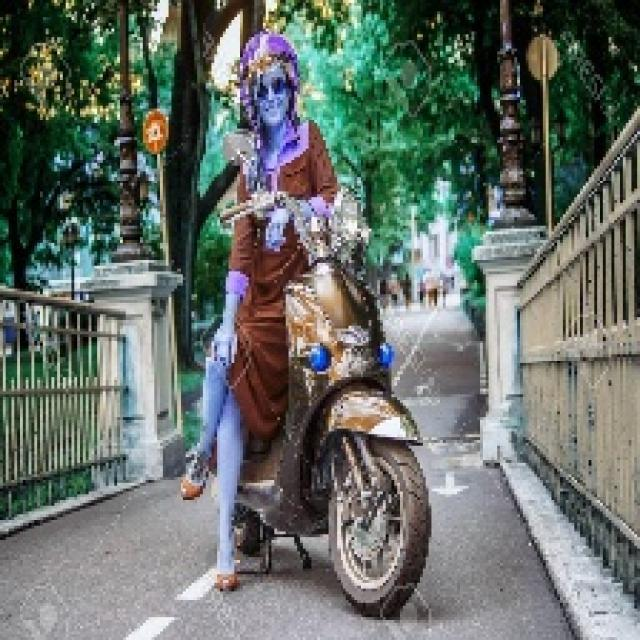bike: (268, 189, 448, 639)
